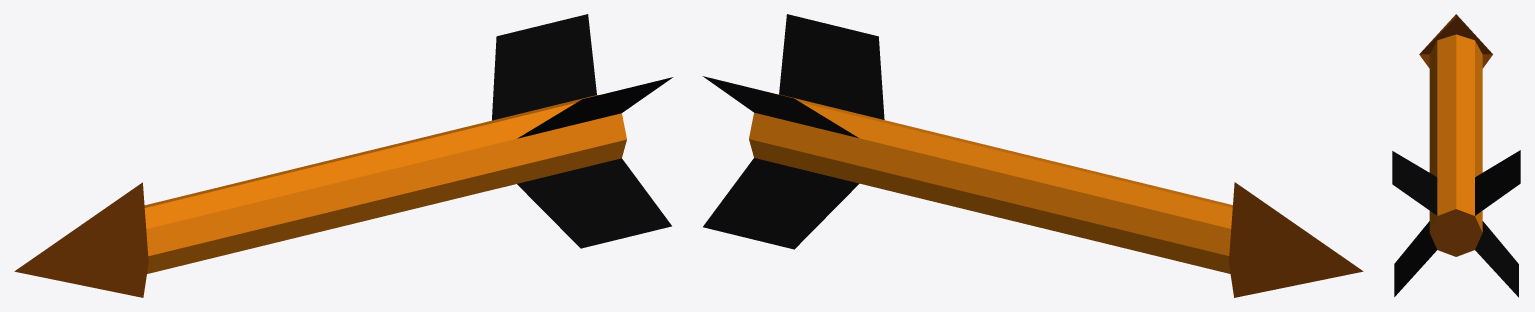
The model's file is arrow.fbx.
3 views of the same model, side by side, from view 1: azimuth 30°, elevation 25°; view 2: azimuth 150°, elevation 25°; view 3: azimuth 270°, elevation 25° (orthographic). The views are drawn at different scales.
Visible parts, largest first — view 1: Cylinder; view 2: Cylinder; view 3: Cylinder.
Part boxes in pixels (bbox=[...]): Cylinder: bbox=[14, 14, 673, 297]; Cylinder: bbox=[702, 14, 1363, 297]; Cylinder: bbox=[1392, 14, 1520, 297].
Bounding box in the file's own units: 142 × 33.33 × 33.93.
